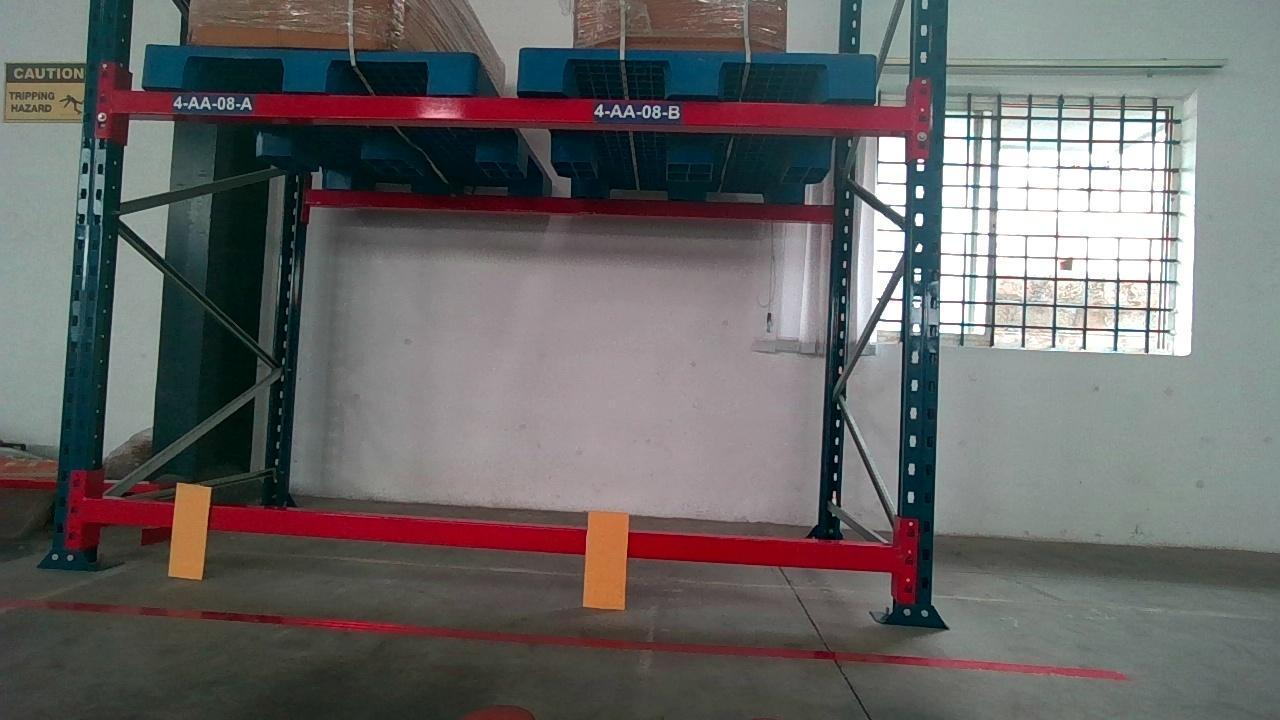h_rack: (88, 493, 900, 575), (116, 87, 931, 132)
orange_strip: (583, 510, 628, 608), (167, 482, 210, 577)
red_line: (22, 595, 1129, 680)
small_pallet: (518, 45, 885, 99), (144, 47, 471, 92)
